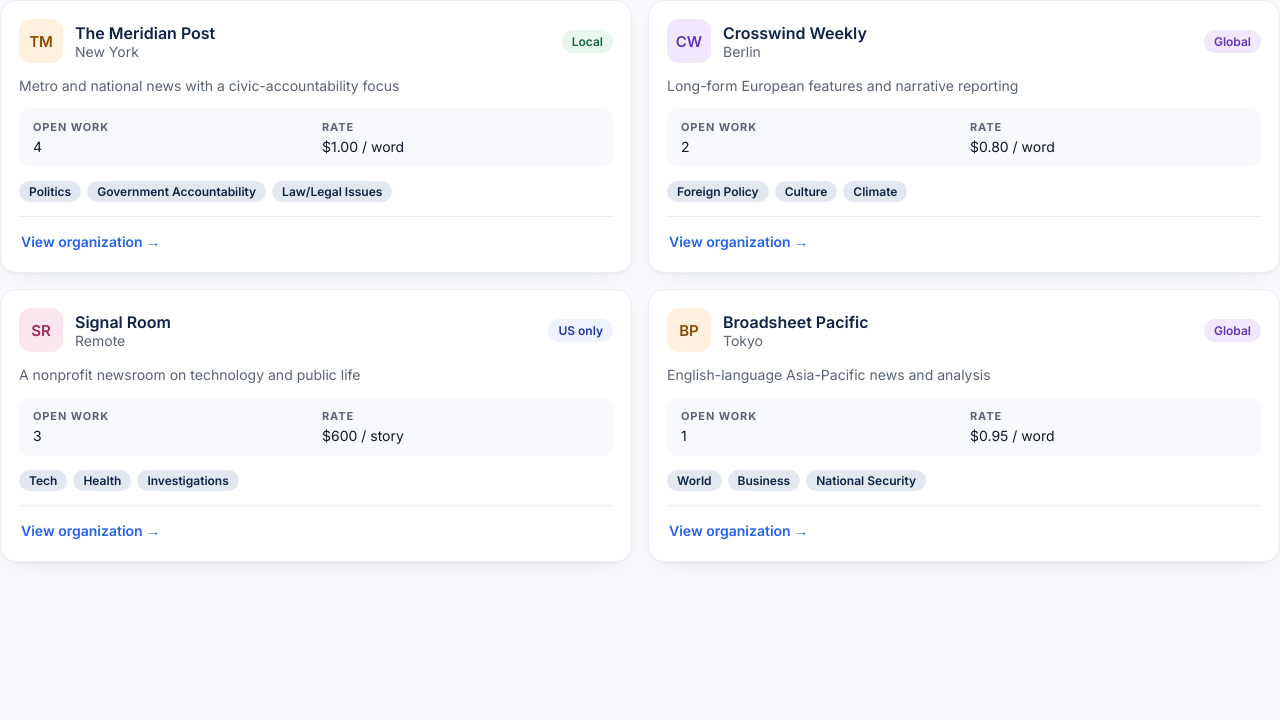
OrganizationGrid › closes the drawer
The image size is (1280, 720).
Click the button "View organization →" below "Foreign Policy". click: click(739, 242)
box: left=667, top=229, right=810, bottom=254
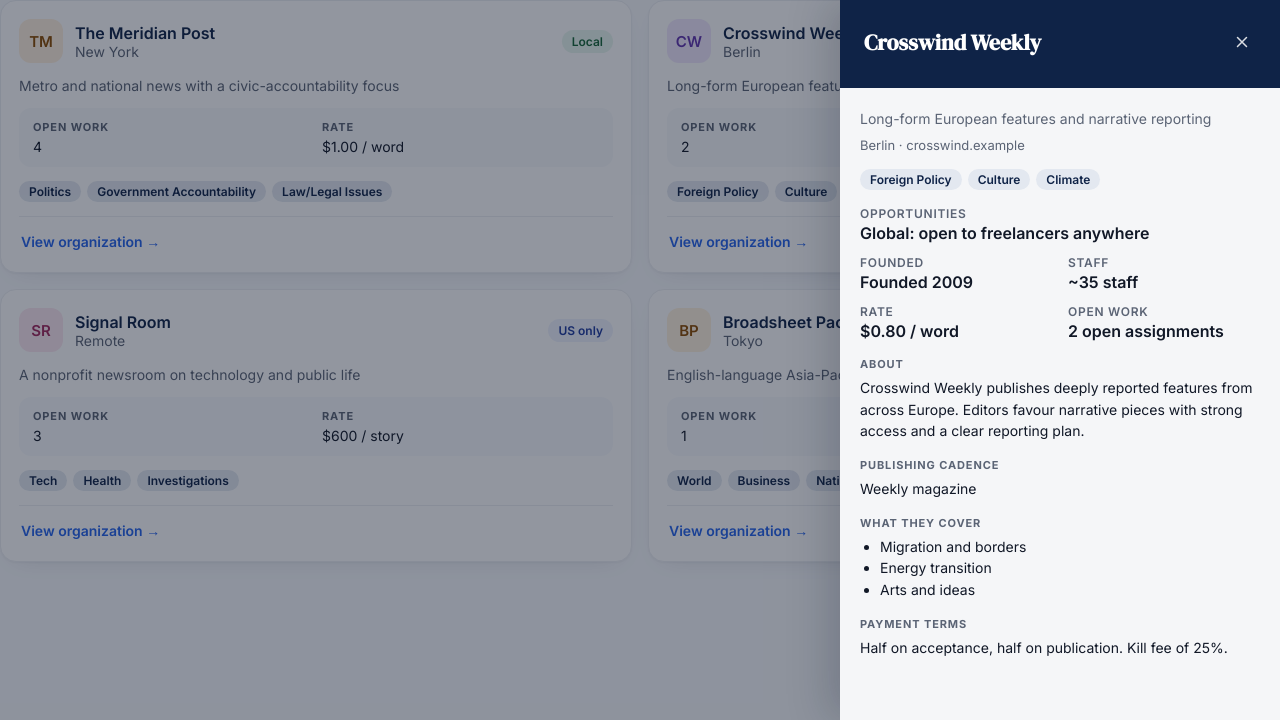
Click the button named "Close Crosswind Weekly". click: click(1242, 42)
box: left=1220, top=20, right=1264, bottom=64
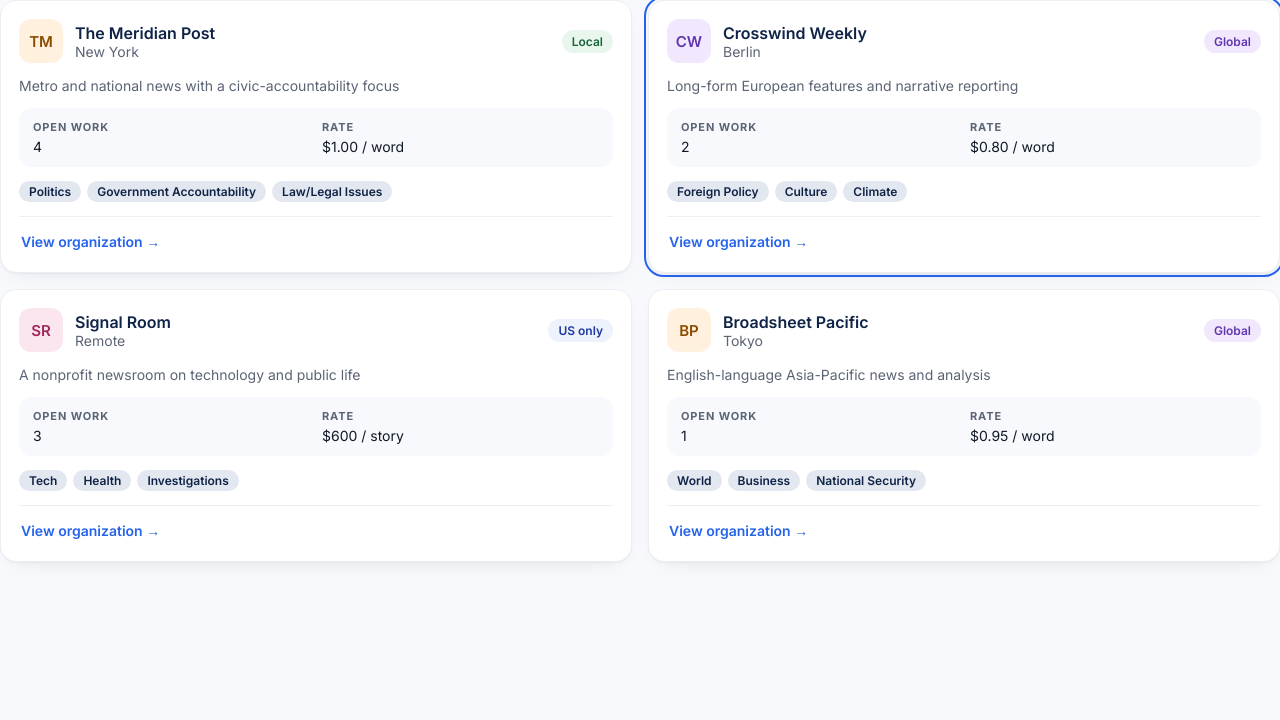
Expected: the dialog is gone
